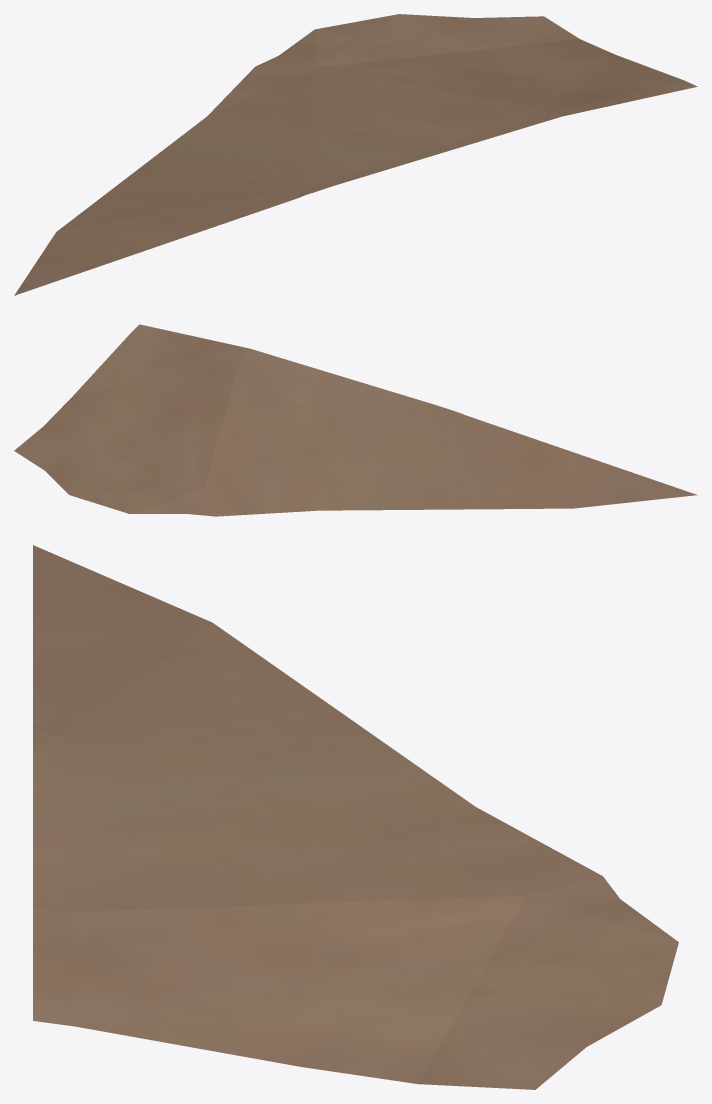
3 renders of one model, top to bottom at view 1: azimuth 30°, elevation 25°; view 2: azimuth 150°, elevation 25°; view 3: azimuth 270°, elevation 25°, orthographic. The views are drawn at different scales.
Bounding box in the file's own units: 0.5525 × 0.0352 × 0.2768.
1 material, 1 textured.
